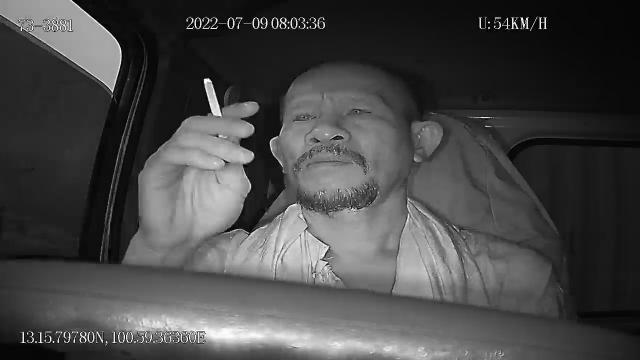SafeDriving: (340, 98, 381, 125), (284, 104, 324, 128)
Smoking: (203, 77, 229, 139)
